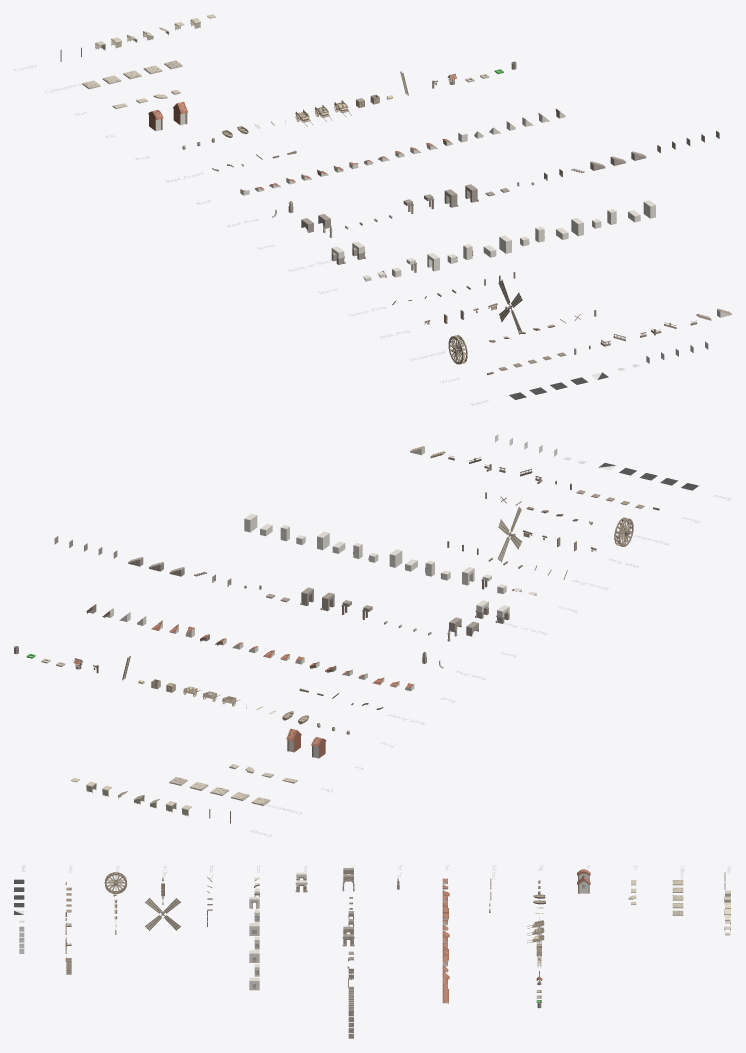
The model's file is modular-village-kit.glb.
The picture shows the model from 3 angles, top to bottom: view 1: azimuth 30°, elevation 25°; view 2: azimuth 150°, elevation 25°; view 3: azimuth 270°, elevation 25°; orthographic projection. The views are drawn at different scales.
Parts seen in each view (by area): view 1: no part large enough to name; view 2: no part large enough to name; view 3: Wall_Prop_Windmill_1, Waterwheel_1.
Part boxes in pixels (x1,y1,x2,y2): Wall_Prop_Windmill_1: (145,898,180,930); Waterwheel_1: (104,872,127,893).
Bounding box in the file's own units: 78.32 × 7.41 × 137.
